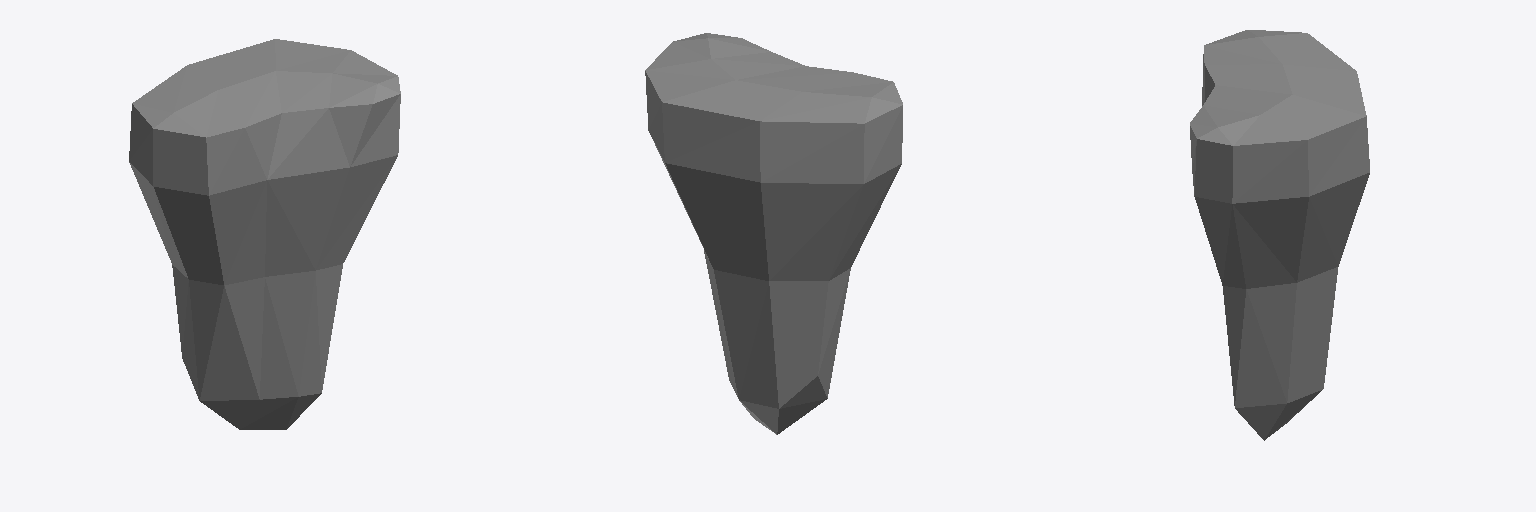
File: step_stone_07.obj
3 renders of one model, left to right at view 1: azimuth 30°, elevation 25°; view 2: azimuth 150°, elevation 25°; view 3: azimuth 270°, elevation 25°, orthographic.
Parts seen in each view (by area): view 1: step_stone_07; view 2: step_stone_07; view 3: step_stone_07.
Boxes of the visible parts, box(x1,y1,x2,y2) form: step_stone_07: box(129, 39, 400, 429); step_stone_07: box(645, 33, 902, 434); step_stone_07: box(1190, 30, 1369, 440).
Bounding box in the file's own units: 210 × 293 × 138.